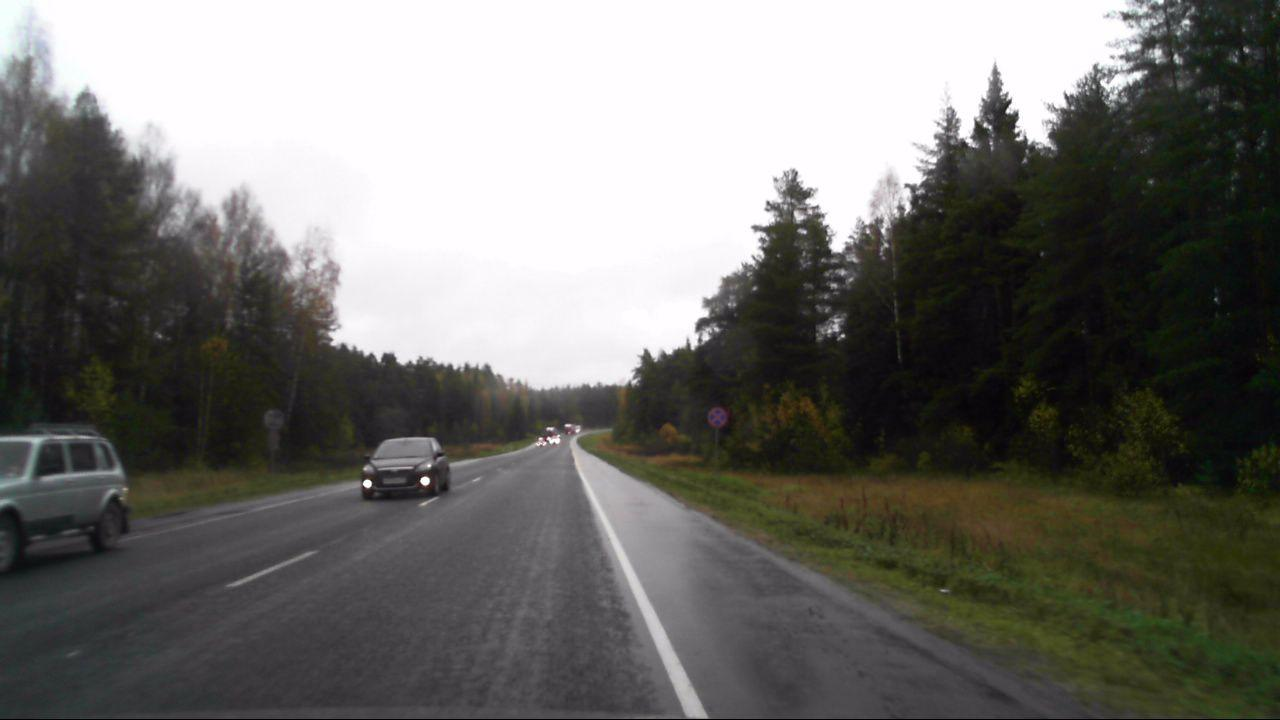road_sign: (707, 407, 728, 428)
